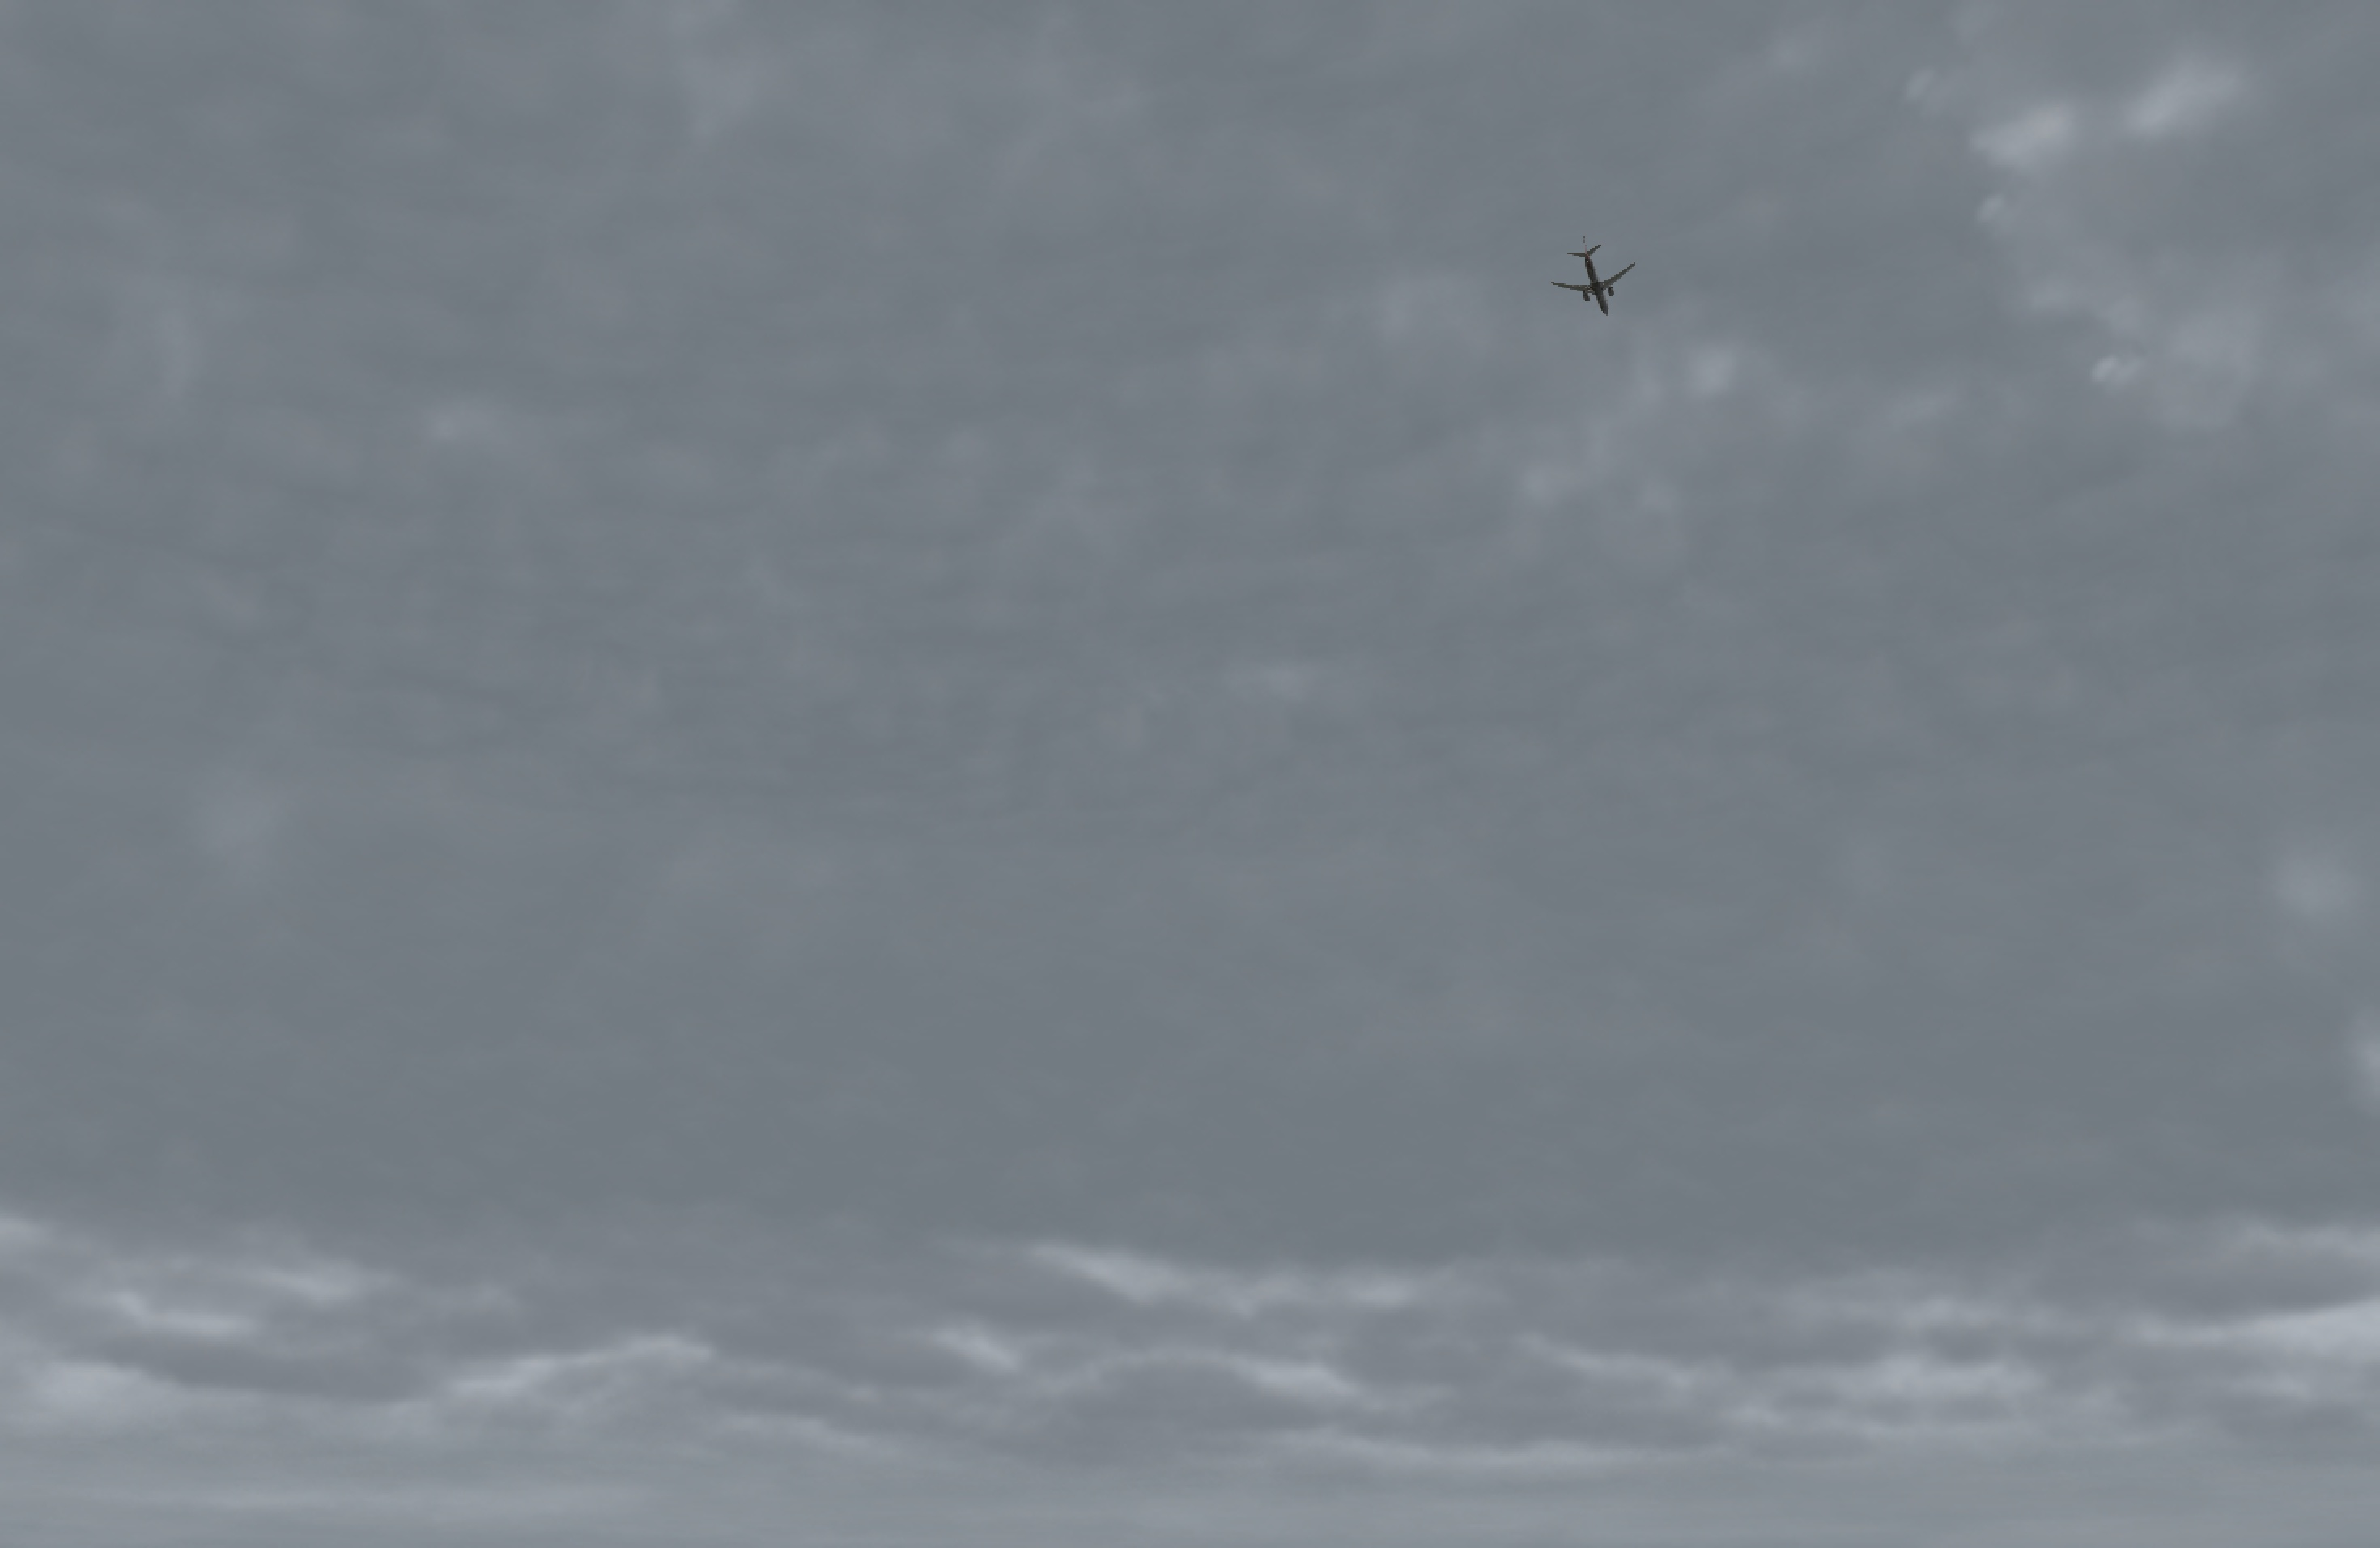aircraft: (1551, 269, 1643, 304)
